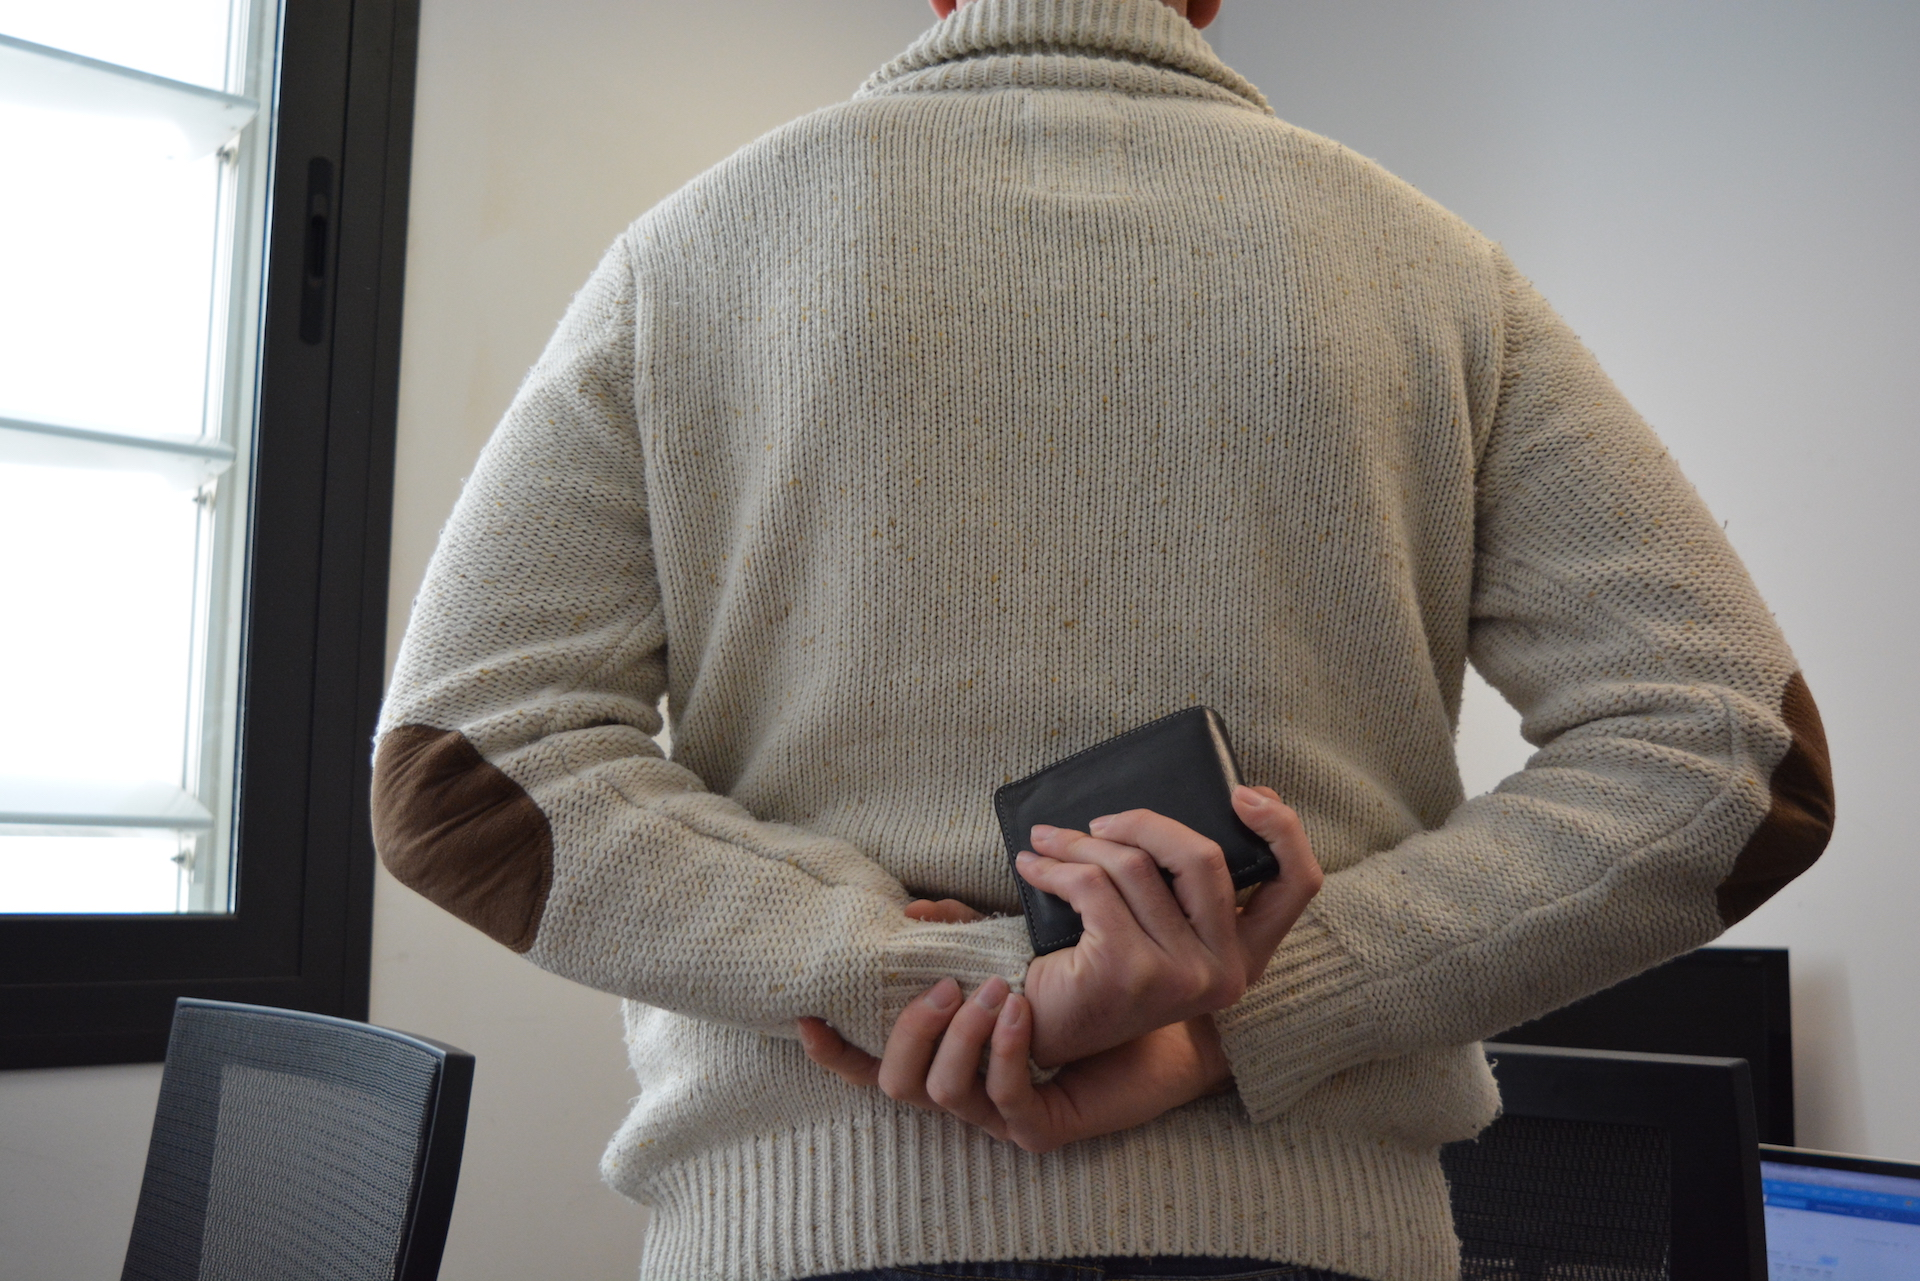monedero: (994, 703, 1282, 964)
